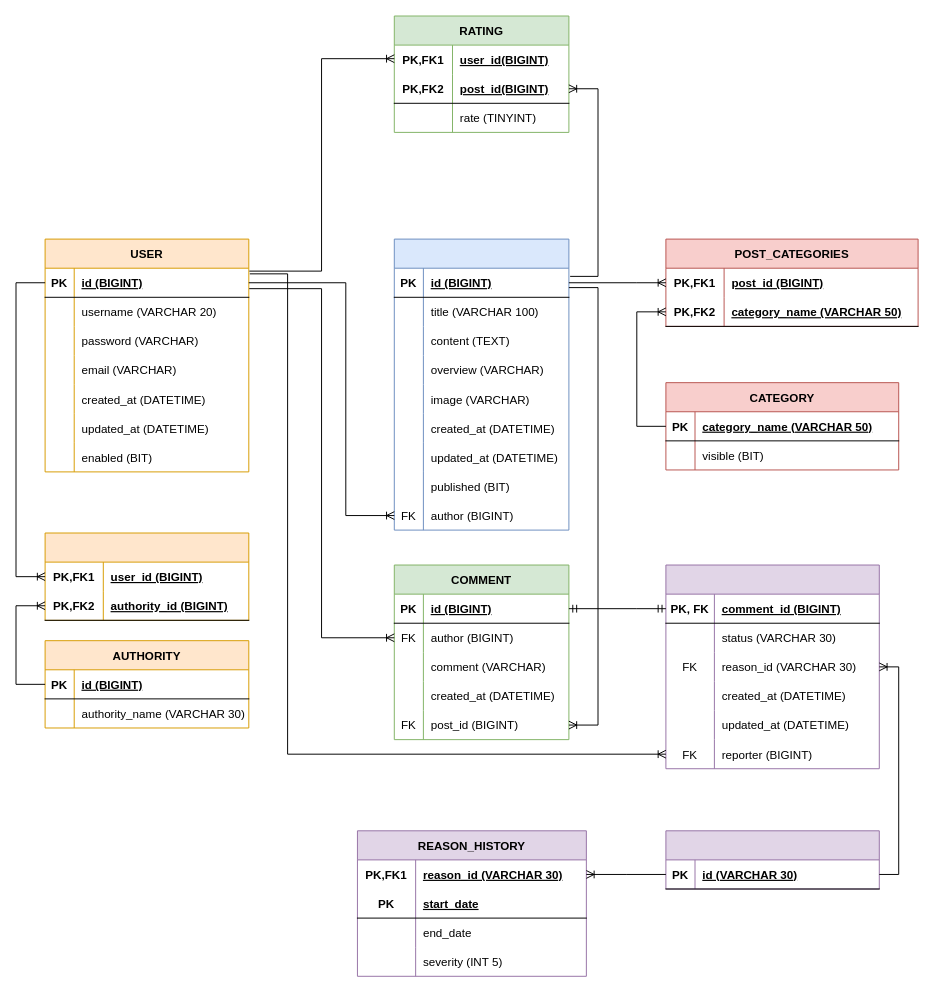
The diagram is 934 pixels wide and 992 high, and some of its shapes have lost their labels. The shapes that lost their labels are listed below. From the top down, each one's box as (x1, y1, x2, y2) in pixels, then its label:
(393, 238, 569, 530): POST
(44, 532, 249, 620): USER_AUTHORITIES
(665, 564, 879, 769): REPORTING
(665, 830, 879, 889): REASON
